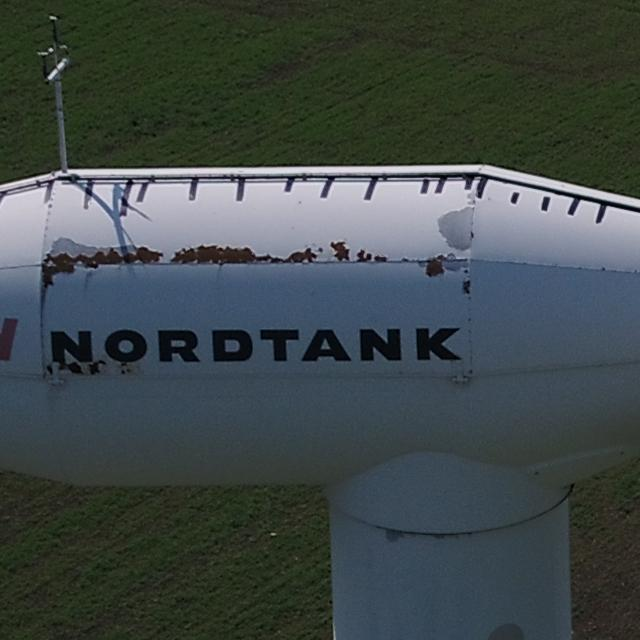damage: (37, 238, 163, 283), (168, 246, 321, 266), (434, 203, 479, 252), (422, 251, 447, 279), (328, 236, 350, 262), (351, 244, 371, 264), (384, 530, 408, 546), (374, 250, 393, 268), (461, 279, 471, 297)
